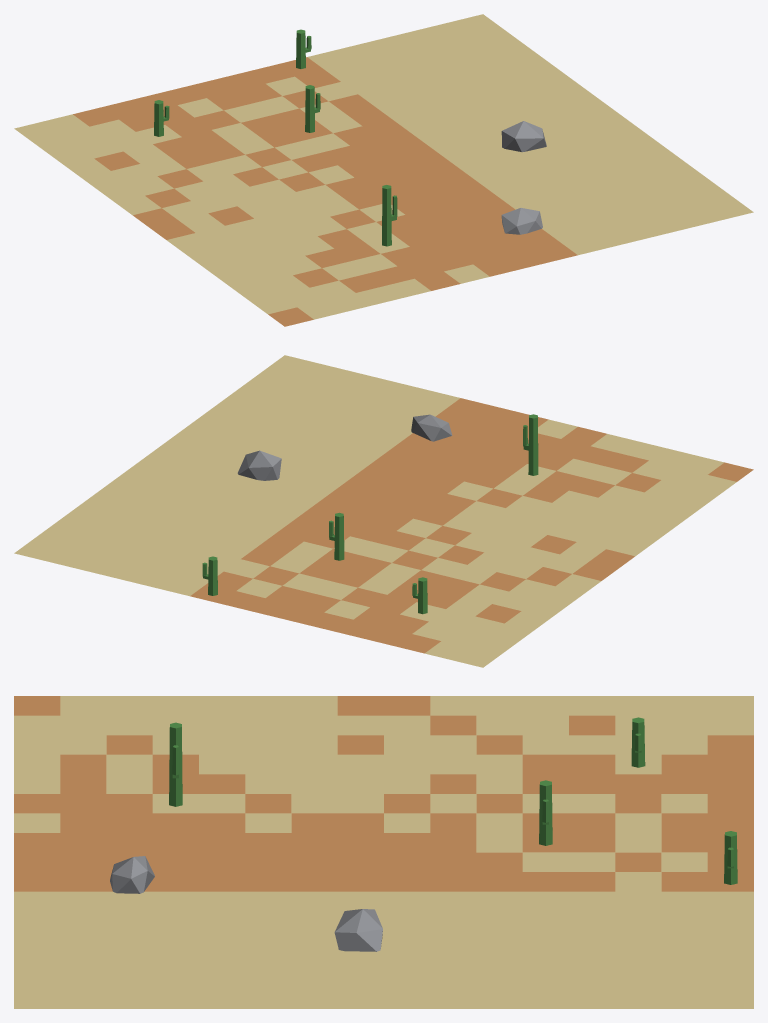
The model's file is chunk_11_22.glb.
3 views of the same model, one above another, from view 1: azimuth 30°, elevation 25°; view 2: azimuth 150°, elevation 25°; view 3: azimuth 270°, elevation 25° (orthographic). The views are drawn at different scales.
Visible parts, largest first — view 1: chunk_11_22; view 2: chunk_11_22; view 3: chunk_11_22.
Boxes of the visible parts, x1,y1,x2,y2 form: chunk_11_22: (14, 14, 753, 326); chunk_11_22: (14, 355, 753, 667); chunk_11_22: (14, 696, 753, 1008).
Bounding box in the file's own units: 16 × 2.24 × 16.
